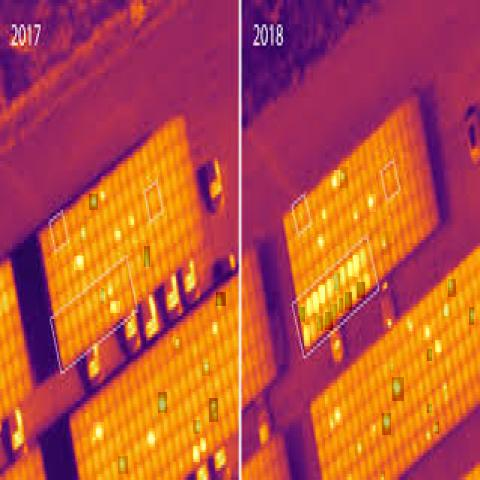fault: (392, 377, 404, 401), (146, 428, 158, 450), (442, 379, 450, 409), (382, 231, 392, 255), (406, 313, 417, 334), (209, 398, 218, 422), (316, 234, 328, 252), (382, 413, 391, 435), (93, 422, 104, 440), (158, 392, 167, 413), (118, 456, 128, 474), (340, 167, 348, 188), (311, 292, 319, 313), (334, 407, 343, 425), (80, 222, 87, 243), (325, 312, 333, 330), (174, 338, 182, 356), (89, 194, 98, 210), (448, 280, 456, 298), (320, 210, 330, 224), (74, 256, 84, 270), (216, 292, 226, 306), (423, 325, 432, 340), (333, 273, 340, 292), (354, 255, 360, 277), (355, 440, 363, 456), (357, 282, 365, 298), (330, 304, 337, 322), (304, 325, 310, 346), (369, 194, 376, 212), (327, 280, 334, 298), (318, 286, 325, 304), (345, 292, 352, 310), (110, 301, 120, 313), (441, 307, 451, 319), (358, 252, 366, 267), (202, 362, 210, 376), (193, 446, 200, 462), (338, 268, 344, 286), (145, 246, 150, 267), (193, 420, 200, 434), (363, 274, 370, 288), (330, 416, 336, 432), (334, 170, 340, 186), (99, 188, 107, 200), (114, 231, 122, 243), (300, 307, 306, 322), (469, 307, 474, 325), (318, 316, 324, 331), (311, 322, 316, 340), (211, 322, 218, 334), (369, 424, 376, 436), (200, 438, 206, 452), (348, 262, 354, 276), (350, 286, 356, 300), (435, 341, 442, 352), (307, 298, 311, 316), (426, 432, 432, 444), (354, 212, 360, 224), (339, 298, 343, 313), (107, 286, 111, 300), (427, 350, 432, 361), (128, 216, 134, 225), (390, 362, 394, 374), (435, 422, 439, 434), (101, 288, 104, 304), (427, 404, 432, 413), (381, 471, 385, 480)
